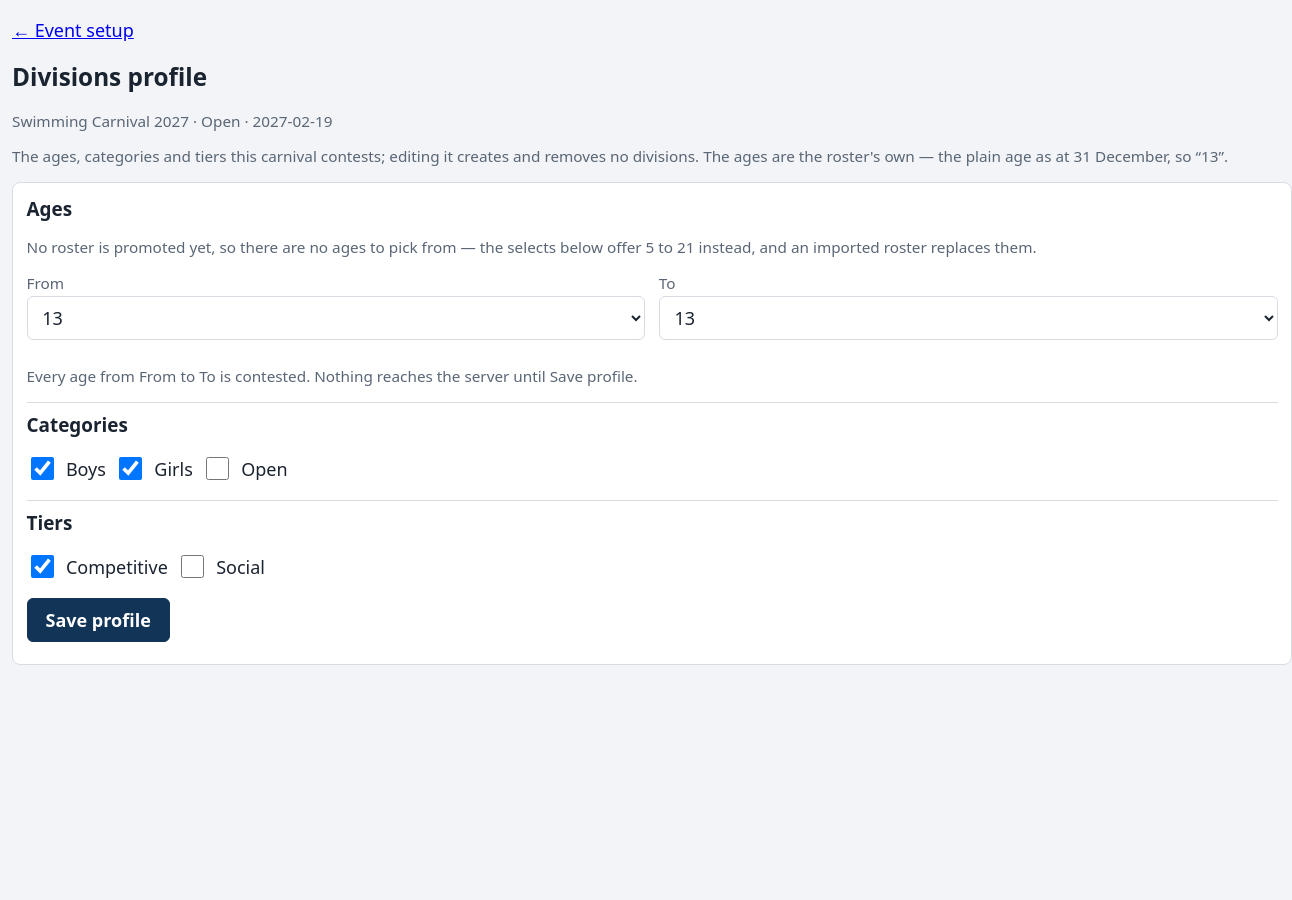
Test: DivisionsProfileScreen › passes an over-long settings blob refusal through as the server's sentence
This screenshot has width=1292, height=900.
Click the button "Save profile". click: click(98, 620)
box: left=26, top=598, right=170, bottom=642
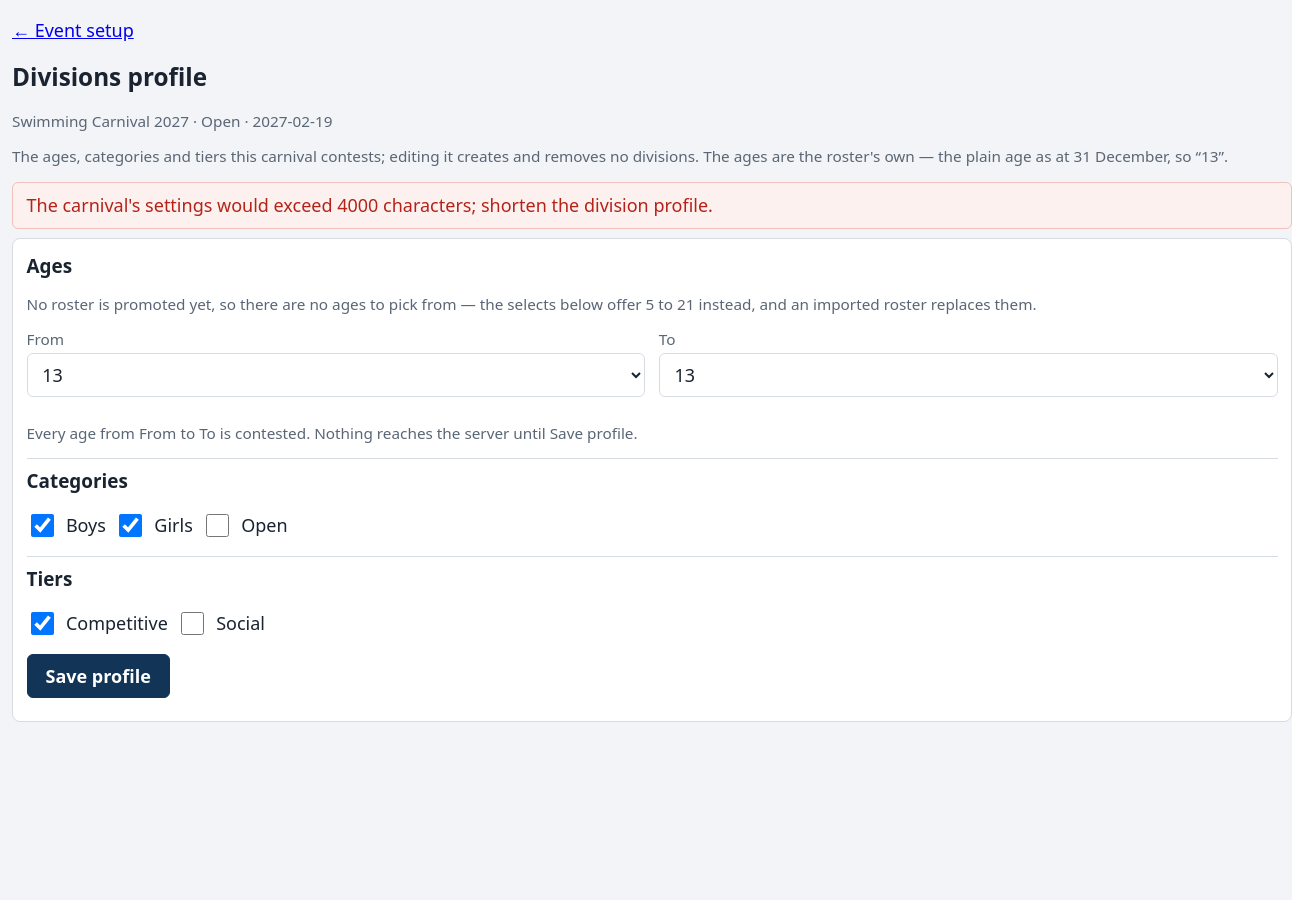
Result: the message shows "shorten the division profile" at left=26, top=193, right=713, bottom=217
